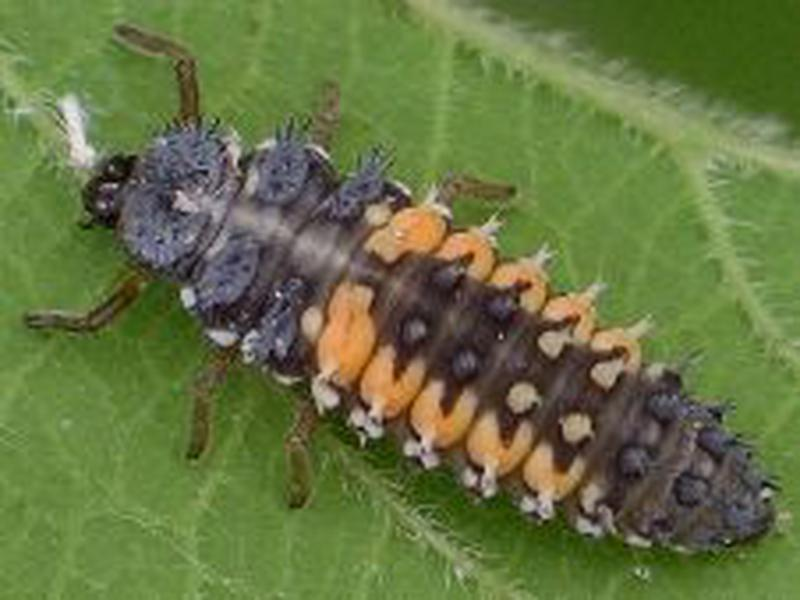Spiny_beetle: (53, 127, 780, 560)
